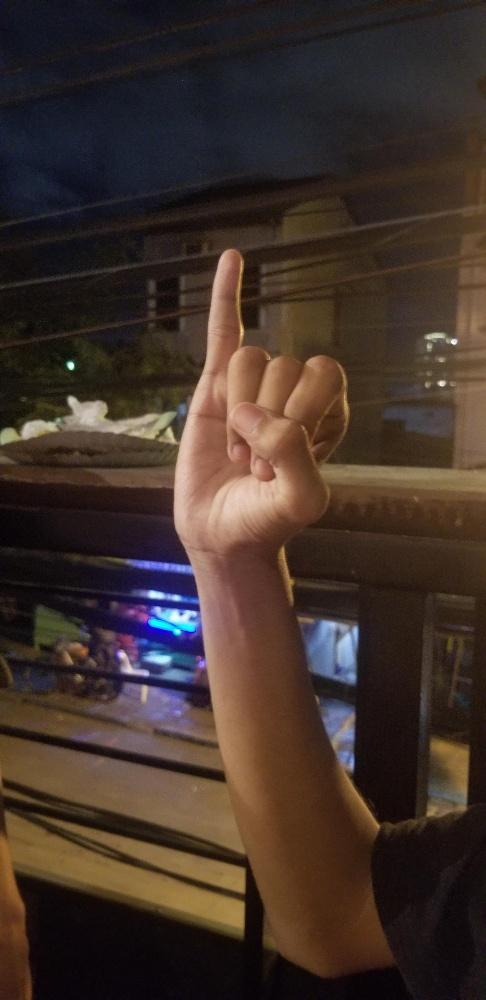i: (172, 248, 348, 549)
